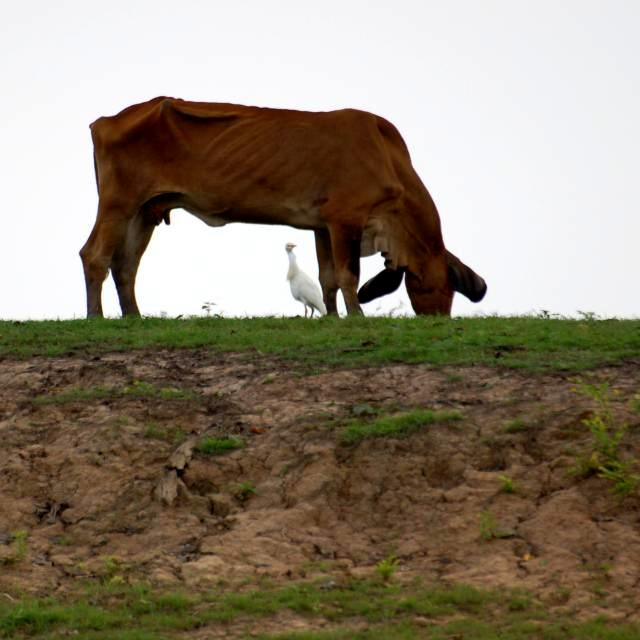COW: (80, 96, 487, 317)
